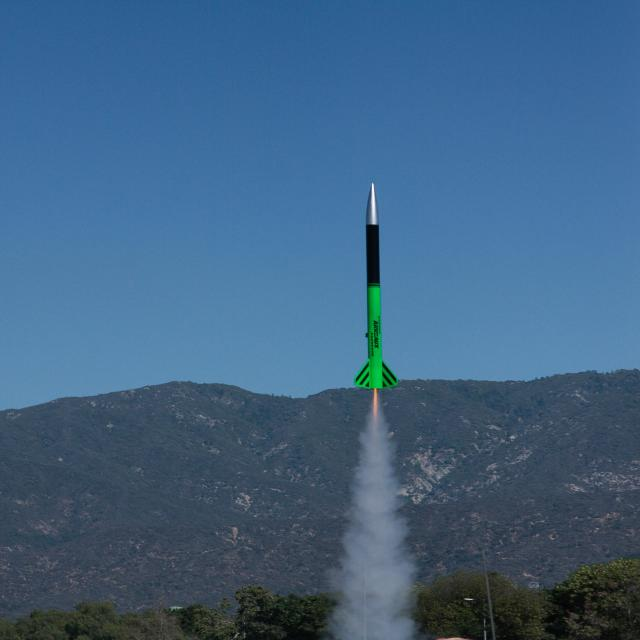Rocket: (351, 181, 399, 393)
